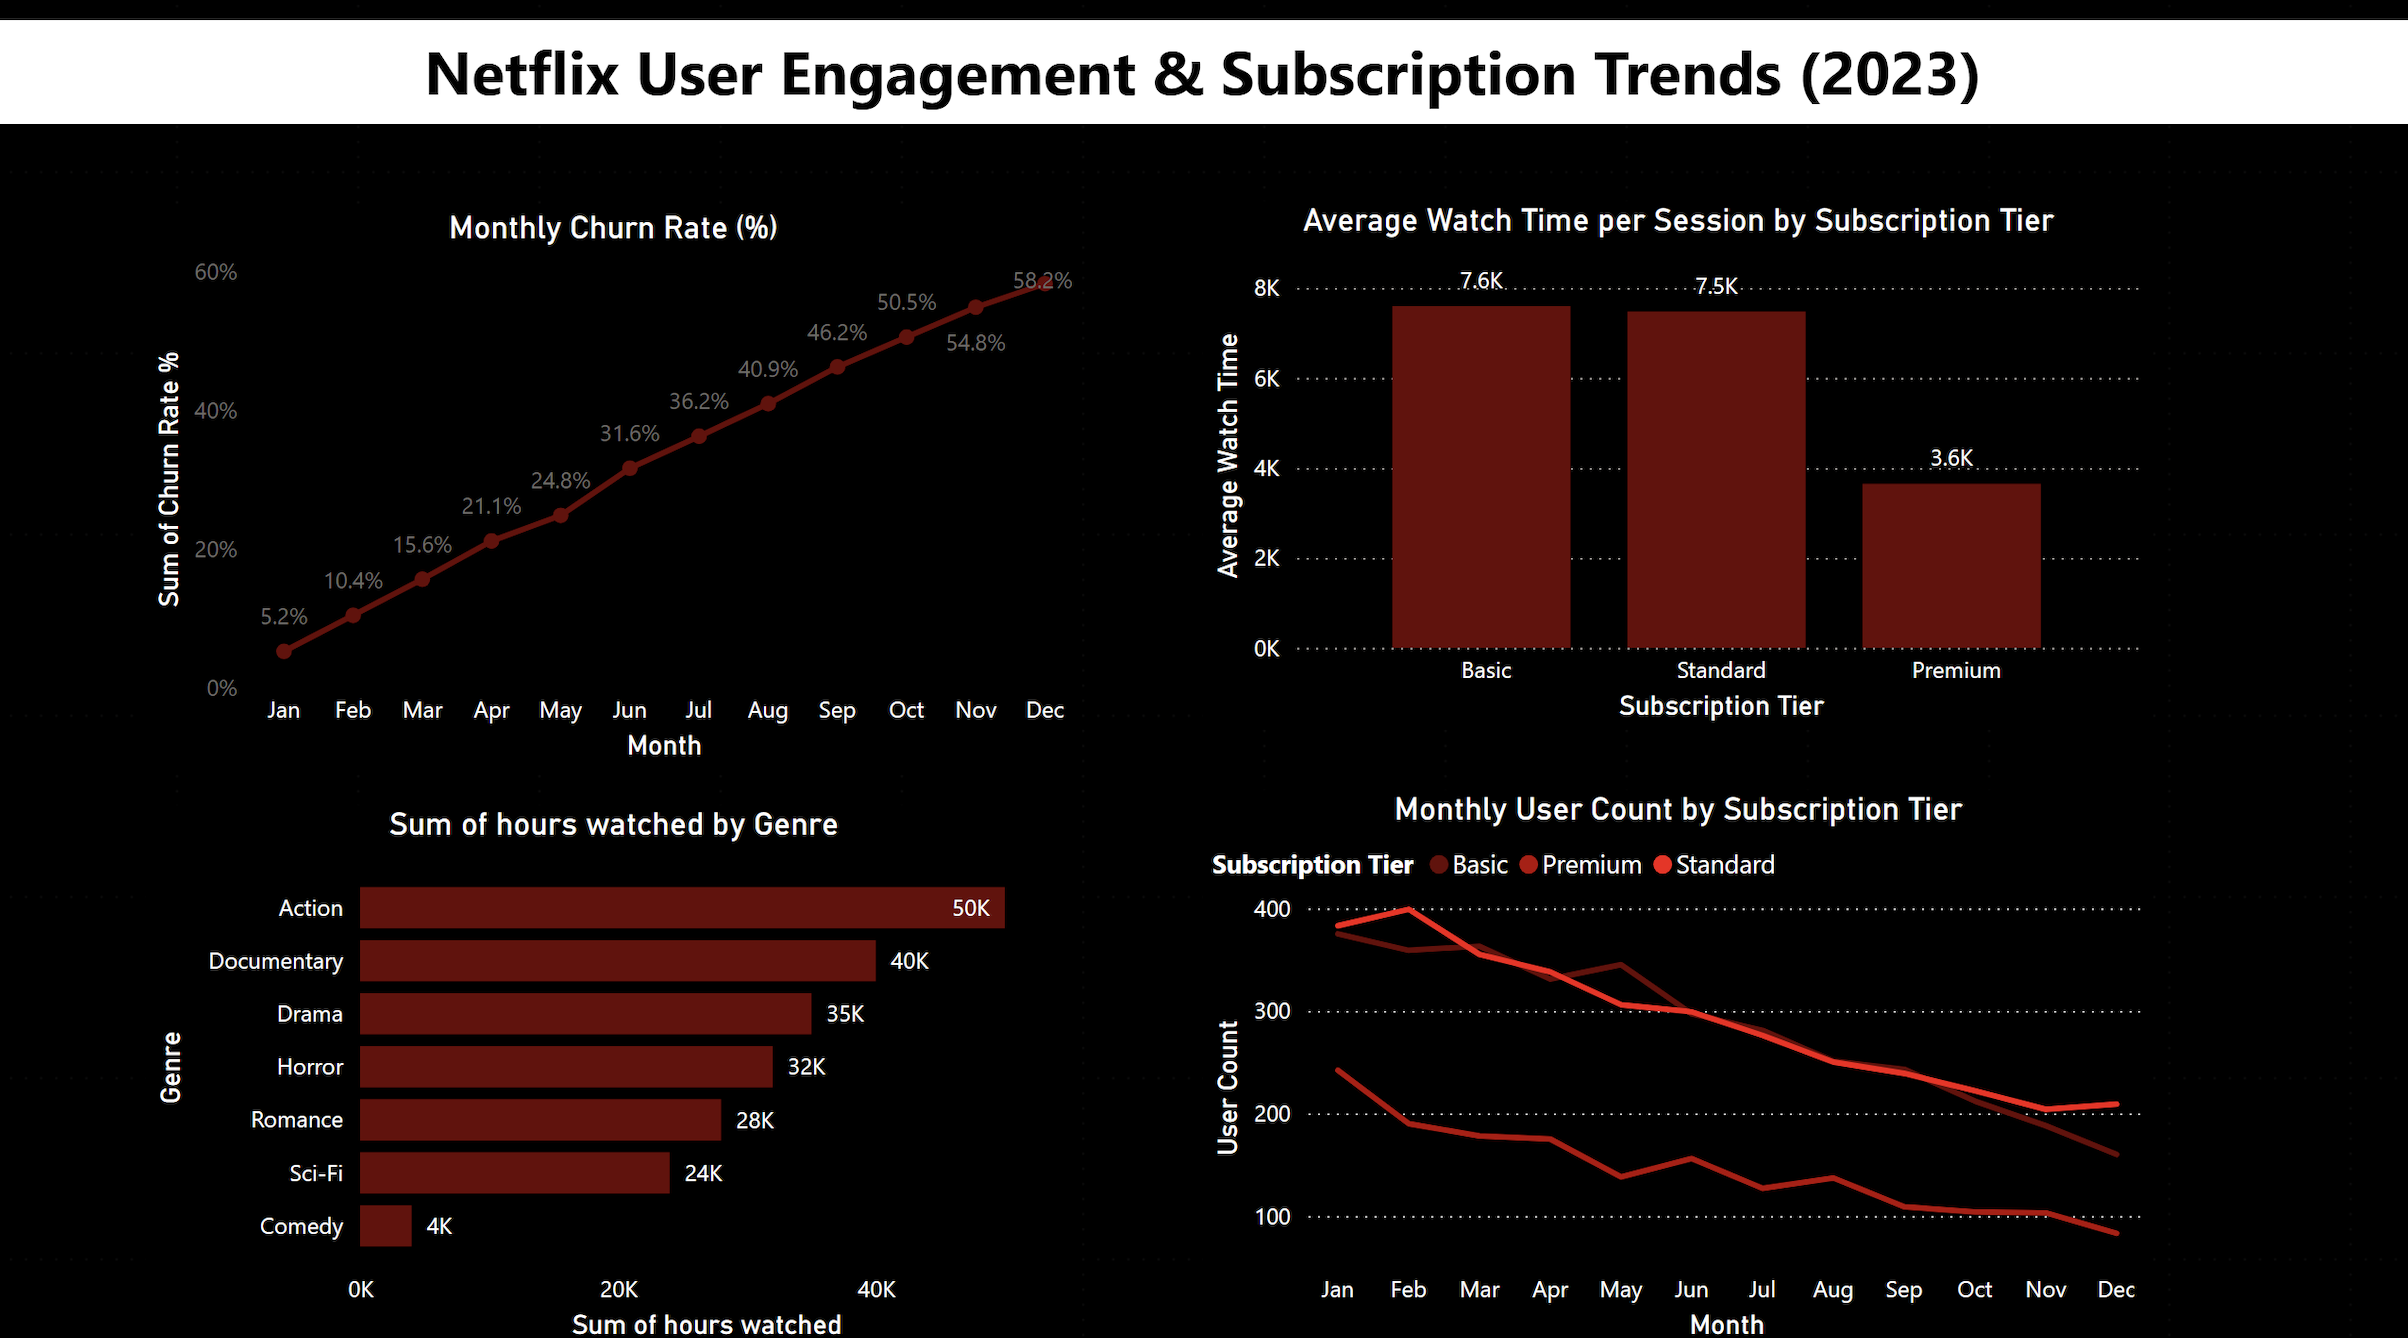

The page's visual inventory and layout, read from the dashboard file:
{"tool":"powerbi","page":{"name":"Page 1","canvas":[1280,720],"ordinal":0},"visuals":[{"type":"lineChart","title":"Monthly Churn Rate (%)","fields":{"Category":["Monthly Churn Rate.MonthName"],"Y":["Sum(Monthly Churn Rate.Churn Rate %)"]},"box":[78.9,115.6,496.7,297.8],"z":0},{"type":"barChart","fields":{"Category":["Popular Content Genres (2).Row Labels"],"Y":["Sum(Popular Content Genres (2).Sum of hours watched)"]},"box":[78.9,428.9,526.7,293.3],"z":1000},{"type":"lineChart","title":"Monthly User Count by Subscription Tier","fields":{"Category":["Sub Growth Trends by Tier&time (3).MonthName"],"Series":["Sub Growth Trends by Tier&time (3).Subscription Tier"],"Y":["Sum(Sub Growth Trends by Tier&time (3).User Count)"]},"box":[640,413.3,506.7,293.3],"z":2000},{"type":"clusteredColumnChart","title":"Average Watch Time per Session by Subscription Tier","fields":{"Category":["User Engagement by Subscription (2).Row Labels"],"Y":["Sum(User Engagement by Subscription (2).Sum of Average Watch Time per Session)"]},"box":[605.6,123.3,541.1,270],"z":3000},{"type":"textbox","box":[0,15.6,1280,55.6],"z":4000}]}

Visuals, with their boxes in screenshot pixels (x1, y1, x2, y2), scaled from the page's 1280x720 canvas onto the 2408x1338 screenshot:
"Monthly Churn Rate (%)" lineChart: {"x1": 148, "y1": 215, "x2": 1083, "y2": 768}
barChart - Popular Content Genres (2).Row Labels x Sum(Popular Content Genres (2).Sum of hours watched): {"x1": 148, "y1": 797, "x2": 1139, "y2": 1337}
"Monthly User Count by Subscription Tier" lineChart: {"x1": 1204, "y1": 768, "x2": 2157, "y2": 1313}
"Average Watch Time per Session by Subscription Tier" clusteredColumnChart: {"x1": 1139, "y1": 229, "x2": 2157, "y2": 731}
textbox: {"x1": 0, "y1": 29, "x2": 2407, "y2": 132}
